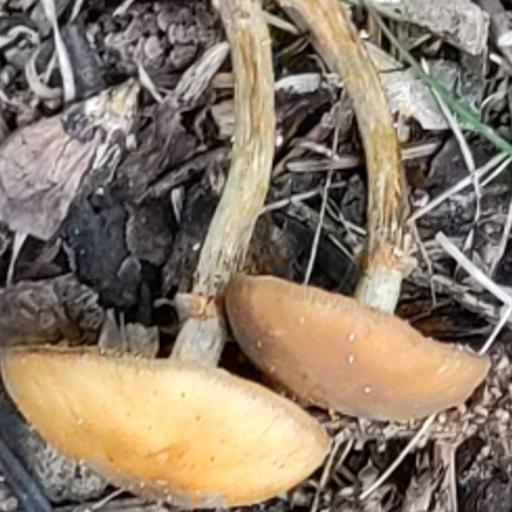mushroom: (3, 249, 511, 510)
